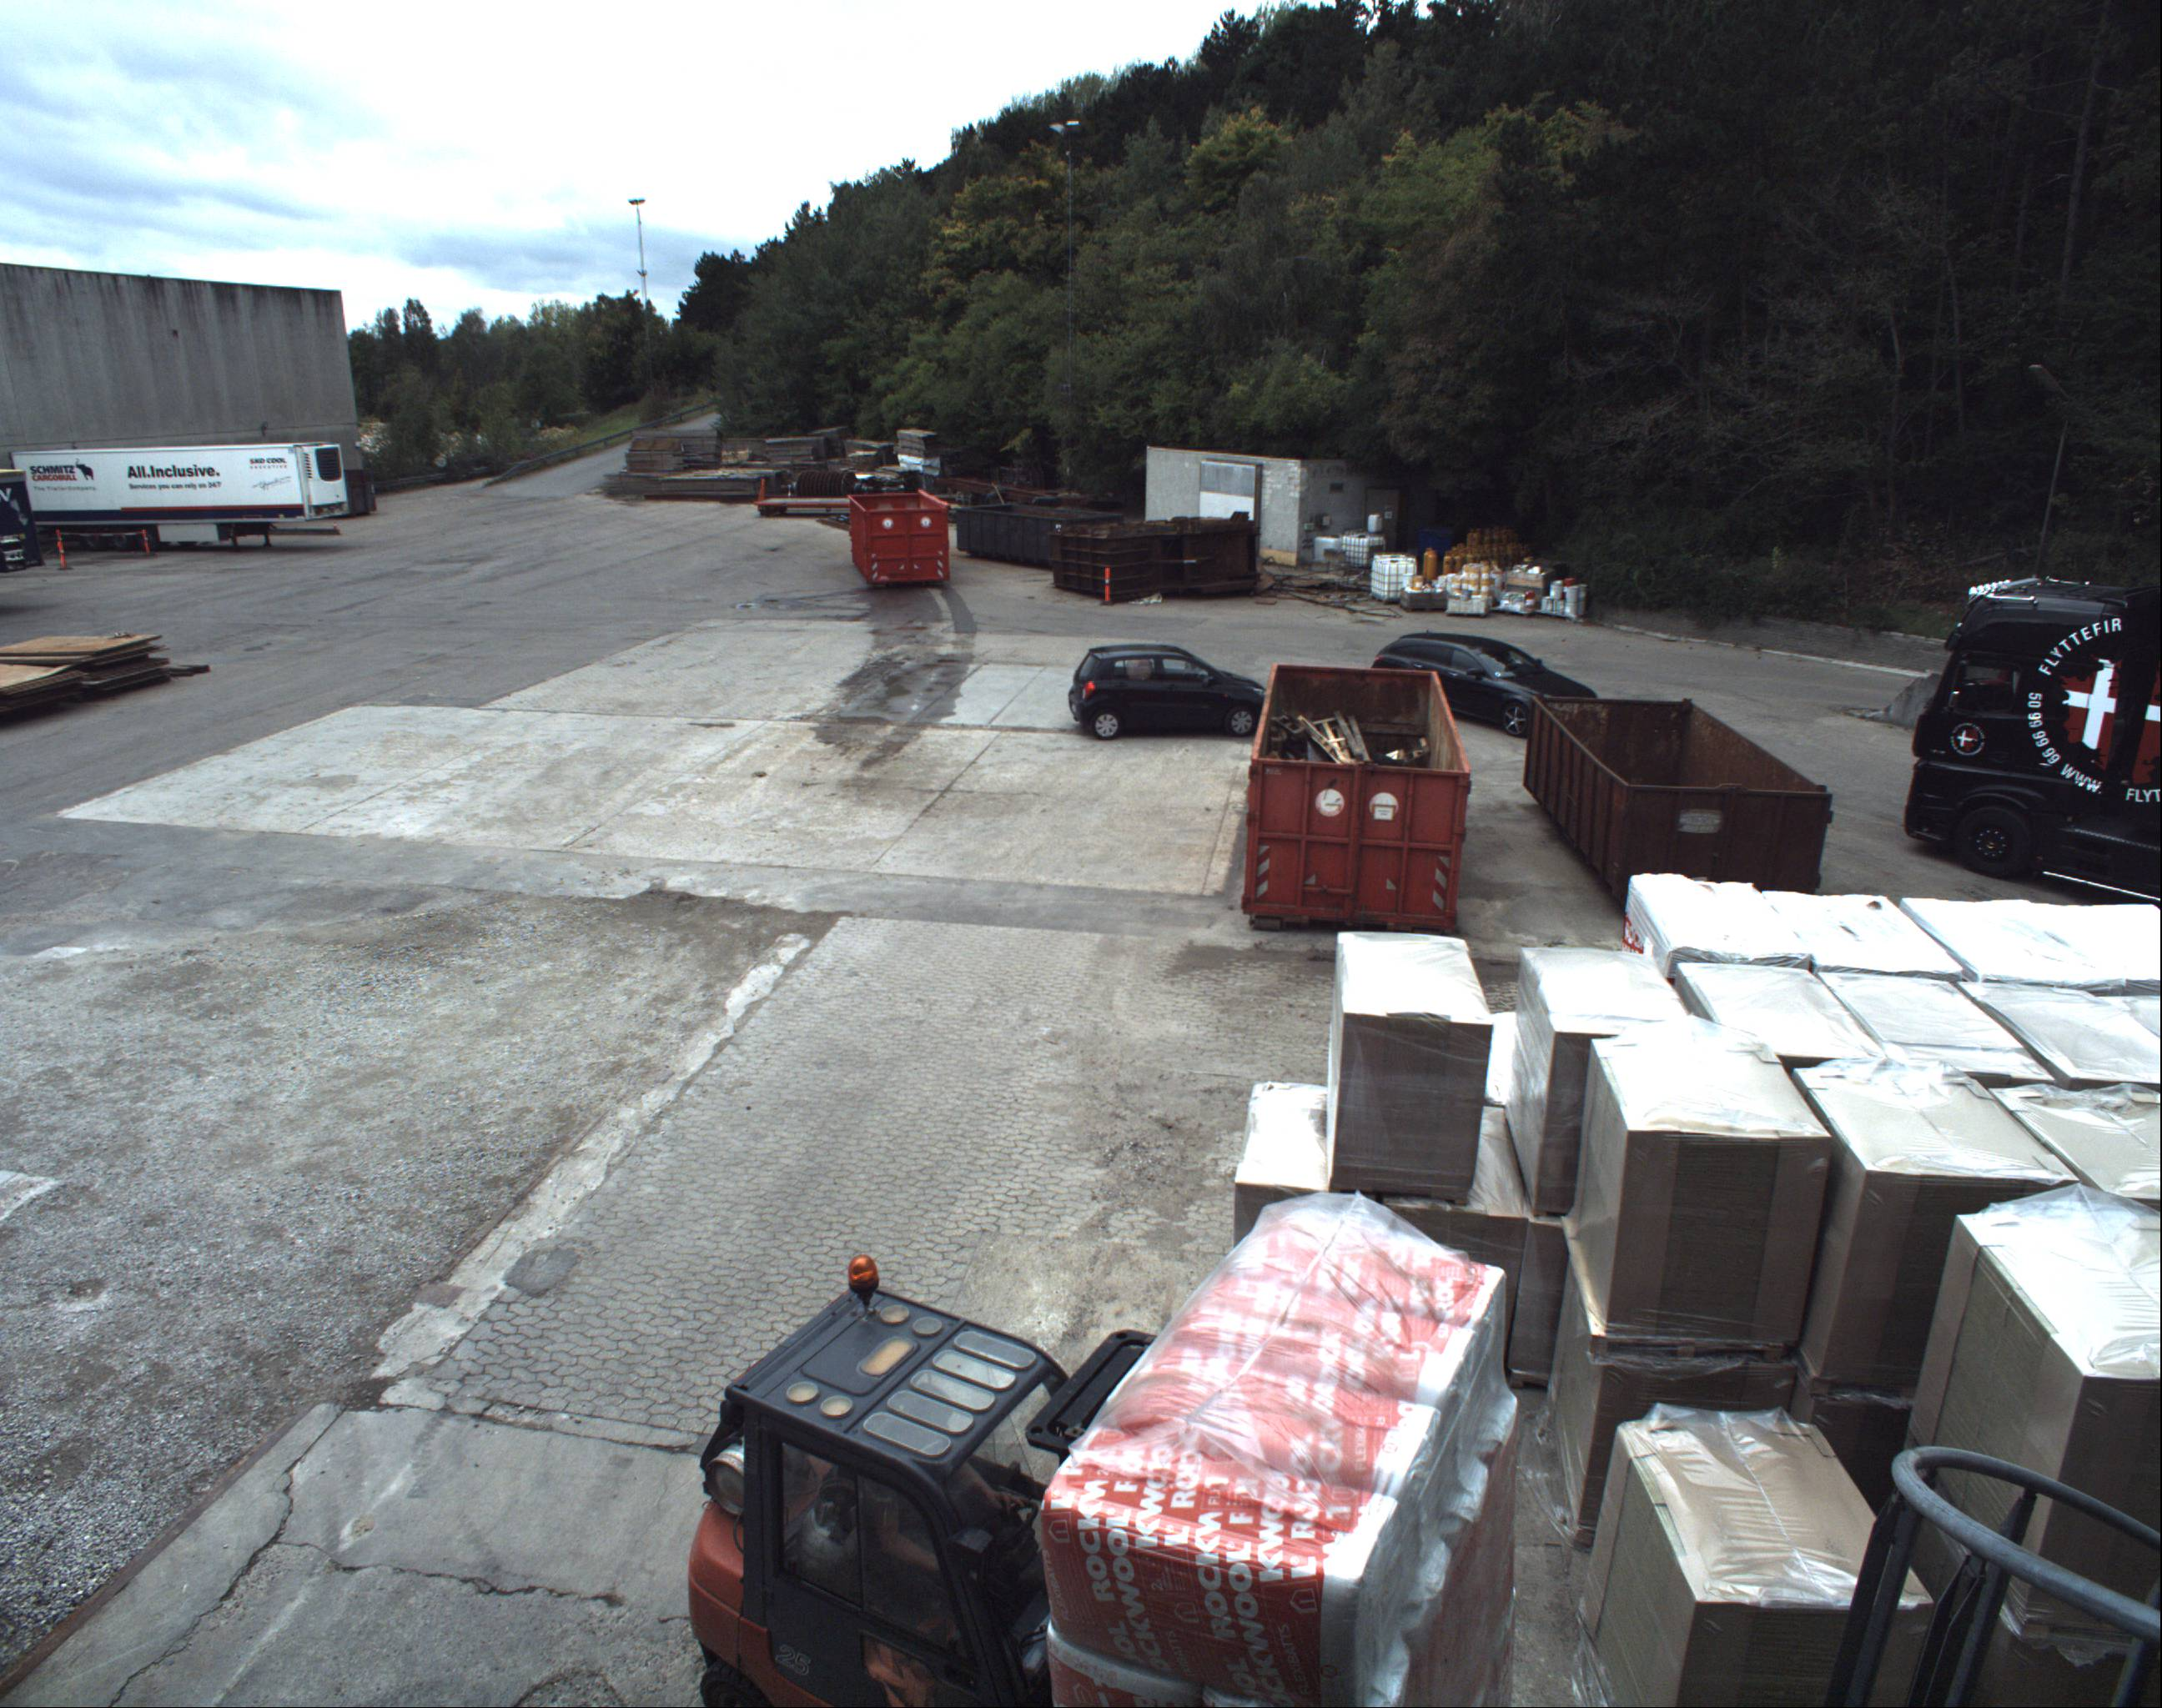rockwool_batts: (1034, 1218, 1509, 1706)
